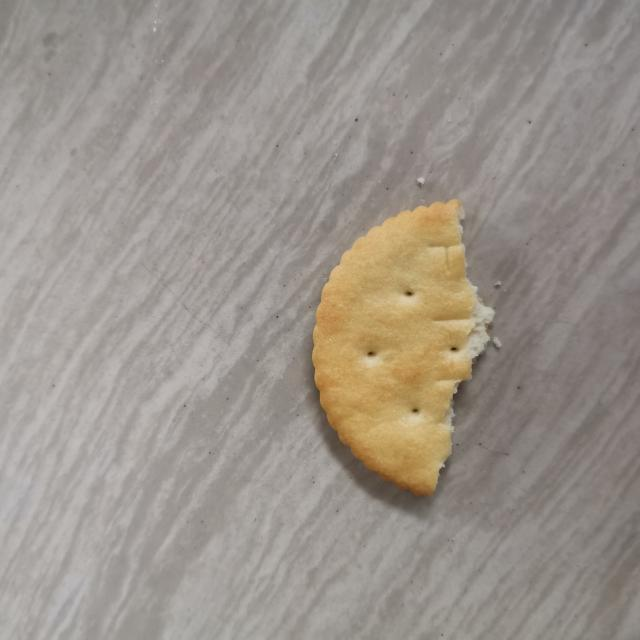Broken: (310, 197, 495, 497)
